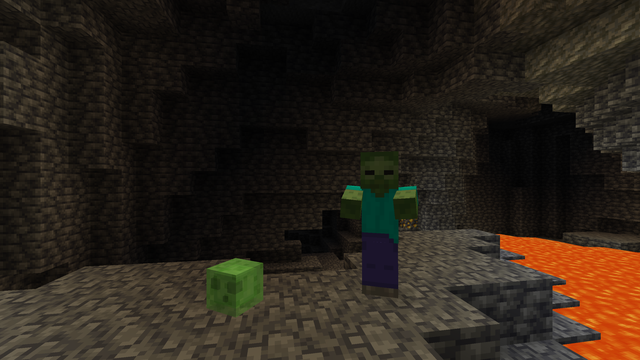slimes: (209, 257, 256, 315)
zombies: (353, 154, 409, 303)
